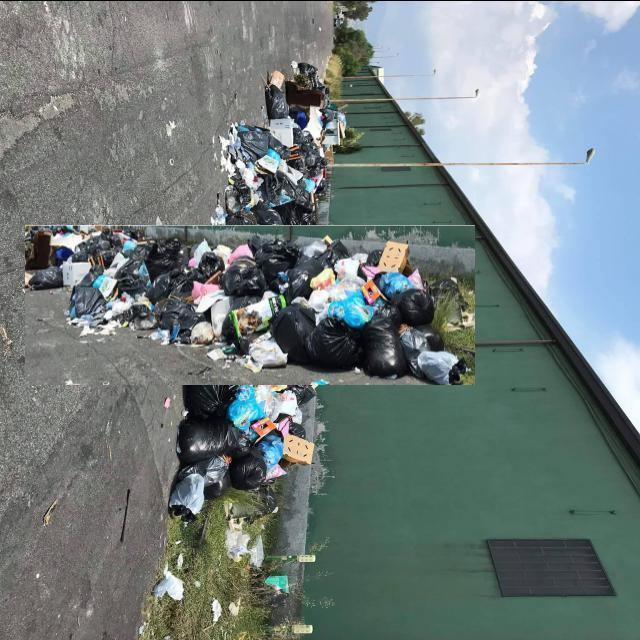Trashbag: (180, 419, 238, 463), (362, 317, 400, 379), (311, 317, 356, 366), (271, 304, 312, 348), (182, 381, 230, 416), (150, 266, 196, 302), (392, 288, 433, 328), (288, 257, 326, 298), (66, 284, 105, 322), (257, 241, 294, 279), (231, 456, 271, 490), (225, 263, 262, 299), (158, 296, 187, 334), (28, 266, 66, 295), (183, 305, 207, 337), (200, 252, 224, 281)
